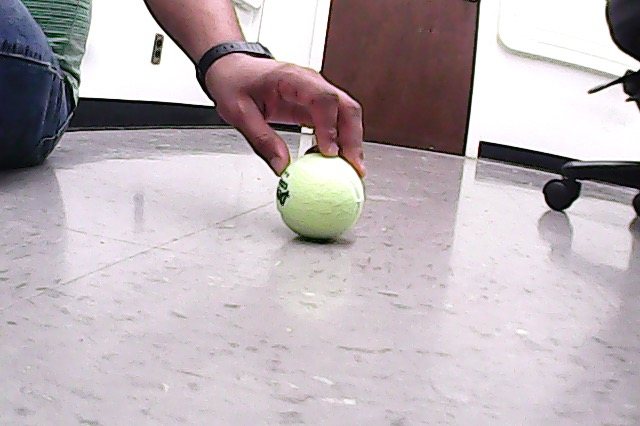ball: (274, 149, 368, 246)
